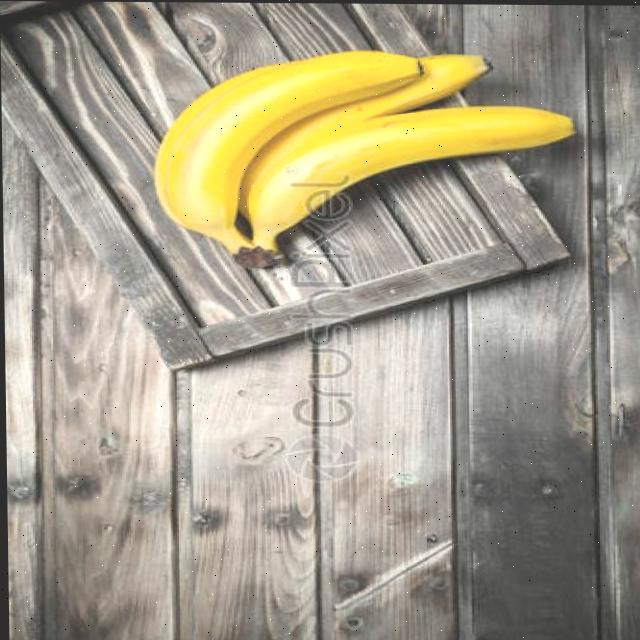banana: (148, 45, 593, 271)
